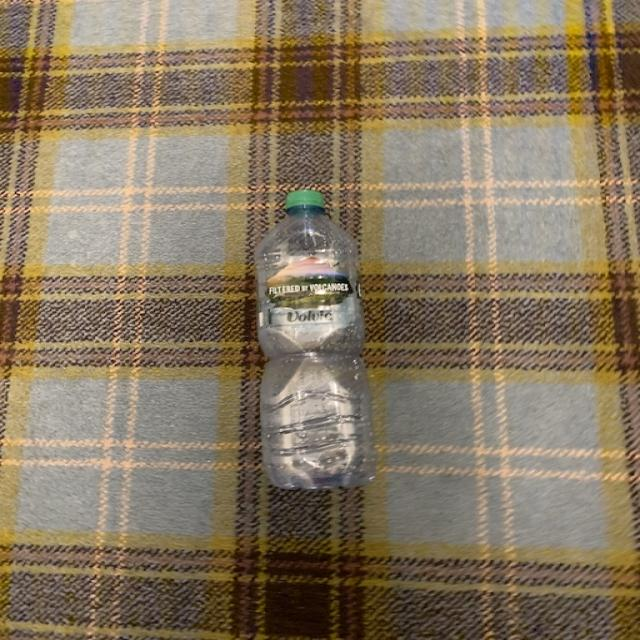PET: (252, 192, 372, 494)
